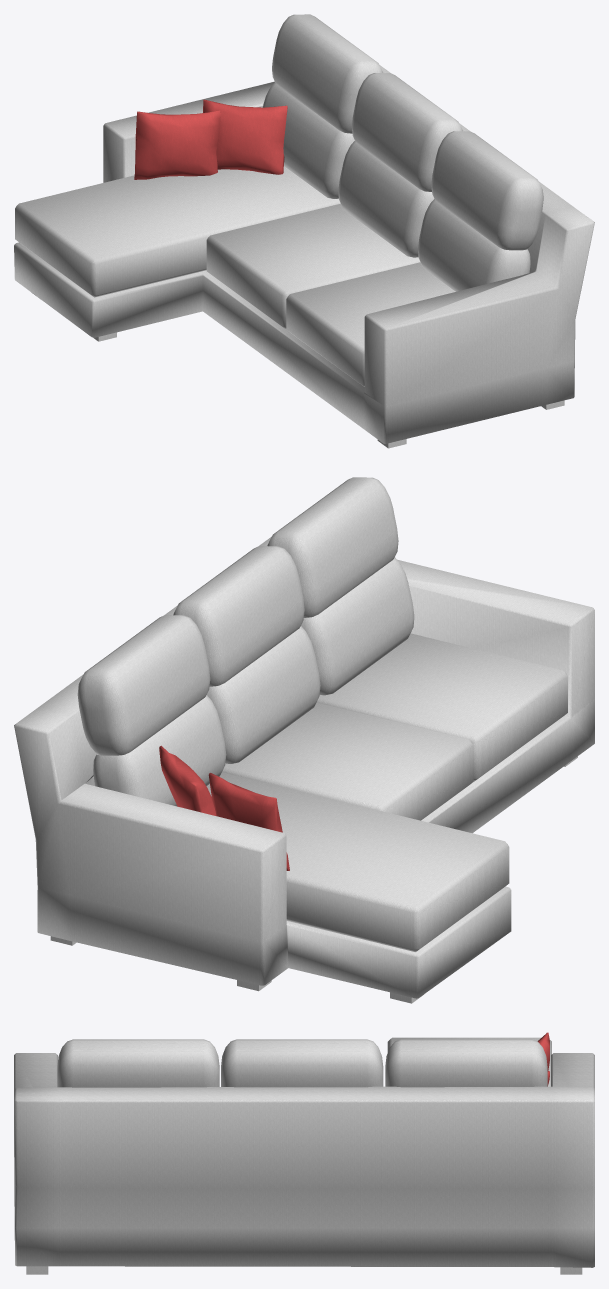
File: Modern Sofa.FBX
3 renders of one model, top to bottom at view 1: azimuth 30°, elevation 25°; view 2: azimuth 150°, elevation 25°; view 3: azimuth 270°, elevation 25°, orthographic. The views are drawn at different scales.
Visible parts, largest first — view 1: sofa, pillow1, pillow2; view 2: sofa, pillow1, pillow2; view 3: sofa.
Boxes of the visible parts, box(x1,y1,x2,y2) form: sofa: box(14, 14, 594, 448); pillow1: box(134, 110, 220, 179); pillow2: box(203, 99, 287, 174); sofa: box(14, 477, 594, 1003); pillow1: box(208, 773, 289, 870); pillow2: box(159, 745, 216, 815); sofa: box(14, 1037, 594, 1274).
Bounding box in the file's own units: 68.8 × 104 × 44.08.
Materials: 2 (2 with a texture image).
